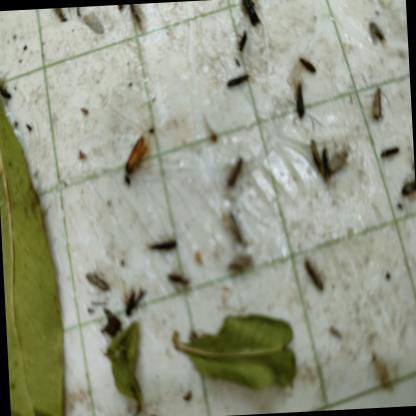prays_oleae: (302, 134, 354, 197), (107, 124, 150, 198), (354, 75, 382, 128), (364, 14, 392, 64), (300, 248, 328, 294), (224, 247, 260, 282), (222, 204, 247, 250), (119, 278, 148, 316), (165, 264, 193, 301), (238, 0, 265, 38), (147, 234, 182, 263), (125, 3, 148, 45), (292, 78, 309, 128), (80, 267, 112, 291), (223, 66, 250, 92), (297, 50, 322, 77), (224, 157, 244, 190), (398, 168, 416, 198), (379, 140, 398, 166), (235, 29, 252, 54)
